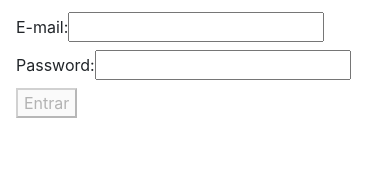
Scenario: O botão deve estar ativado se o email e a senha forem válidos.
Type "teste@teste.com" into the field with test id "email-input" at point(196, 27), box [68, 12, 324, 42]
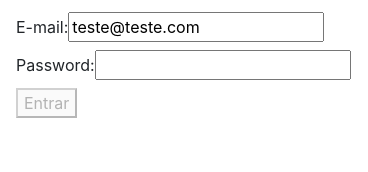
Type "1234567" into the password field with test id "password-input" at point(223, 65), box [95, 50, 351, 80]
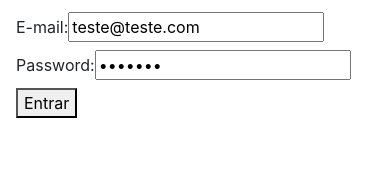
Expected: the button with test id "login-submit-btn" is enabled, [16, 88, 77, 118]
